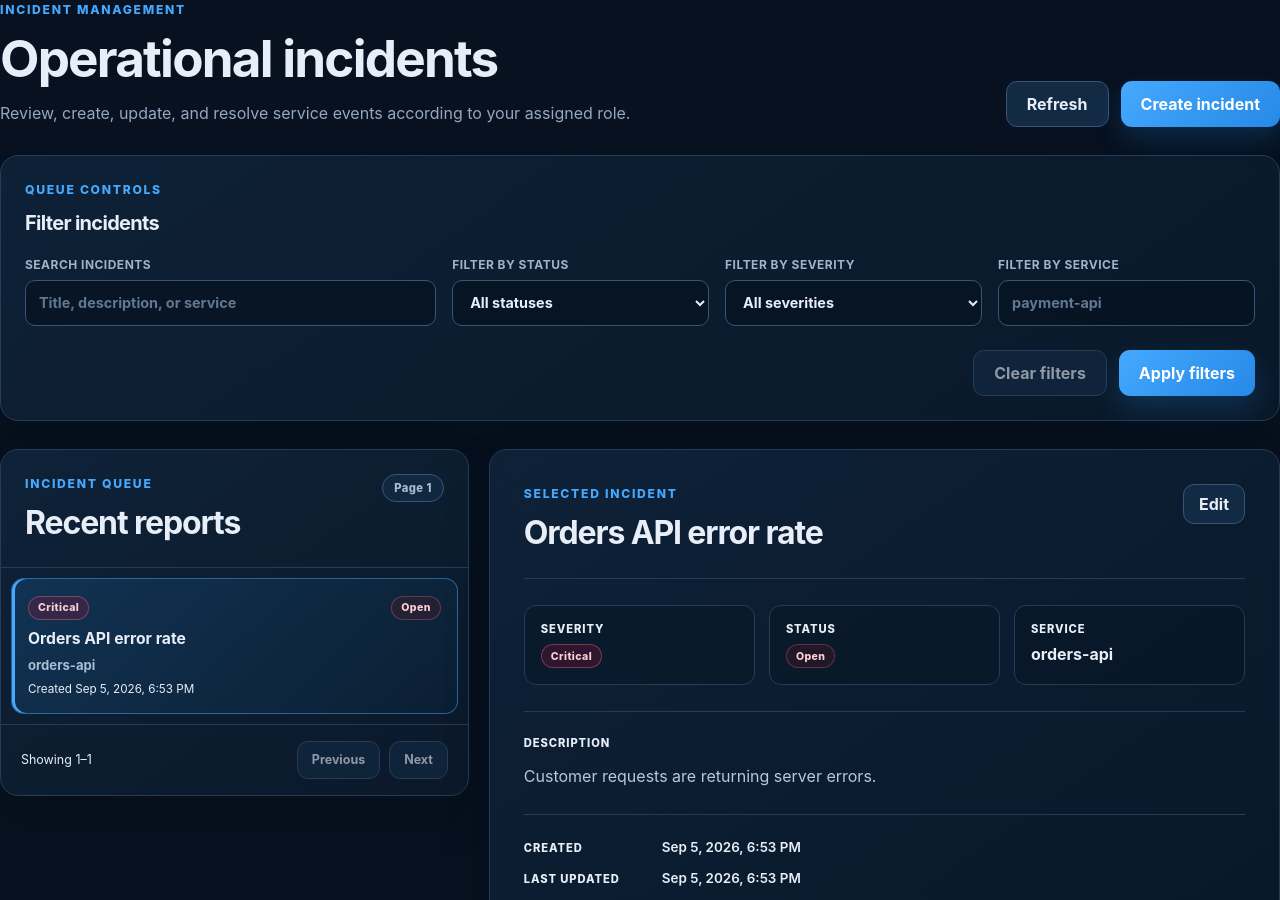
Test: IncidentsPage › allows an operator to update an Incident
The image size is (1280, 900).
Click the button "Edit" at x=1214, y=504, box [1183, 484, 1245, 524]
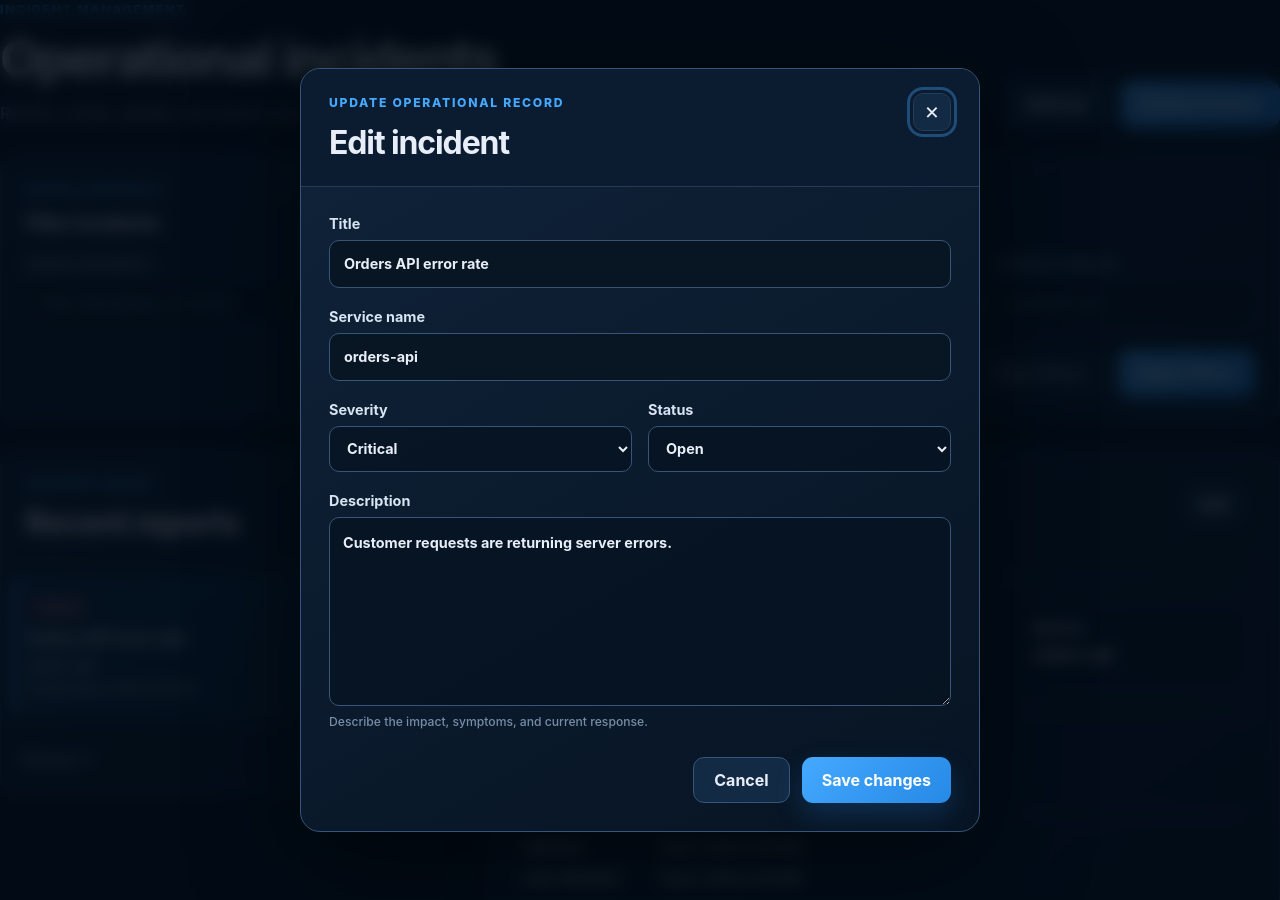
Replace the text in the text box labelled "Description" with "The operations team is investigating." at x=640, y=612, box [329, 517, 951, 706]
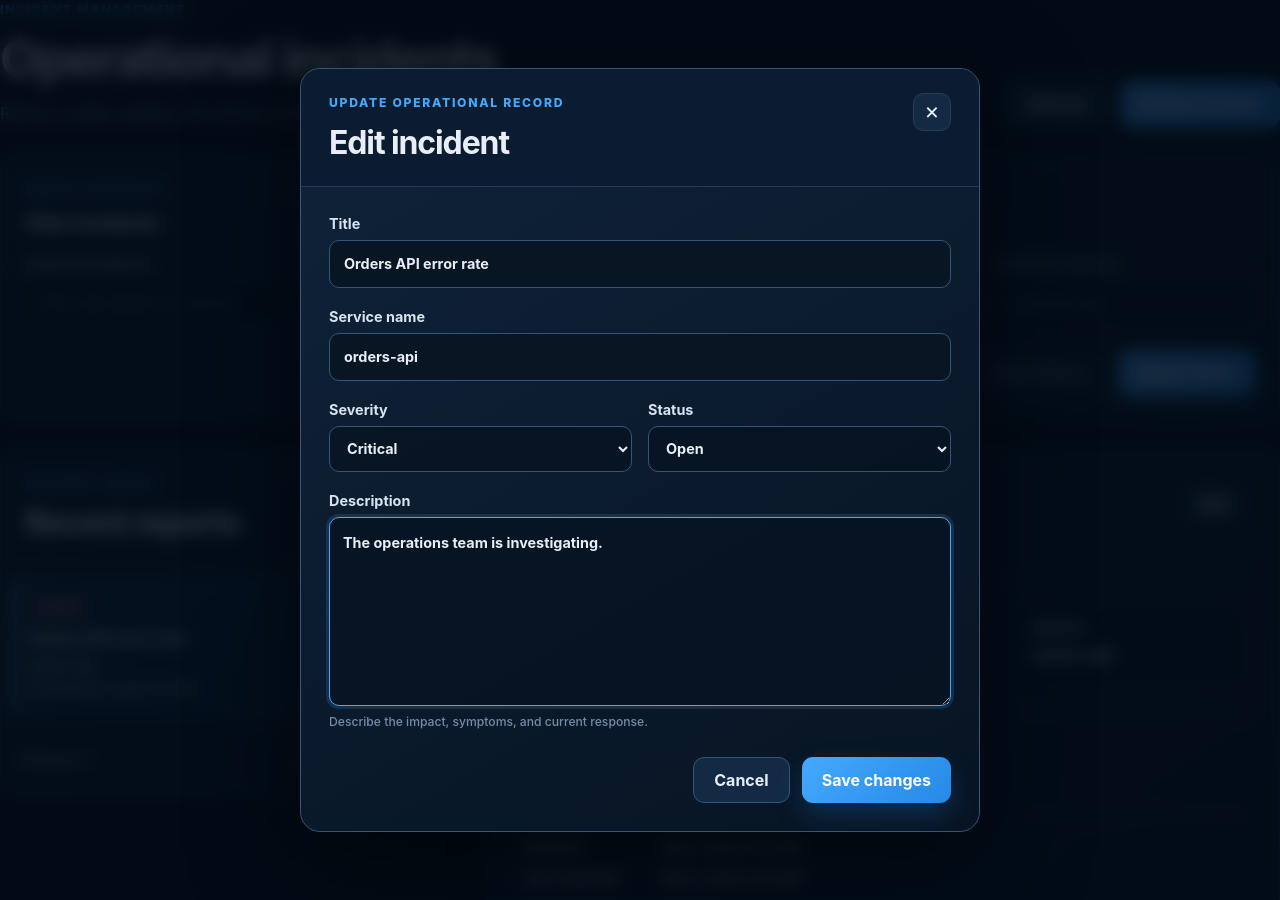
Select "High" in the dropdown labelled "Severity" at x=480, y=449, box [329, 426, 632, 472]
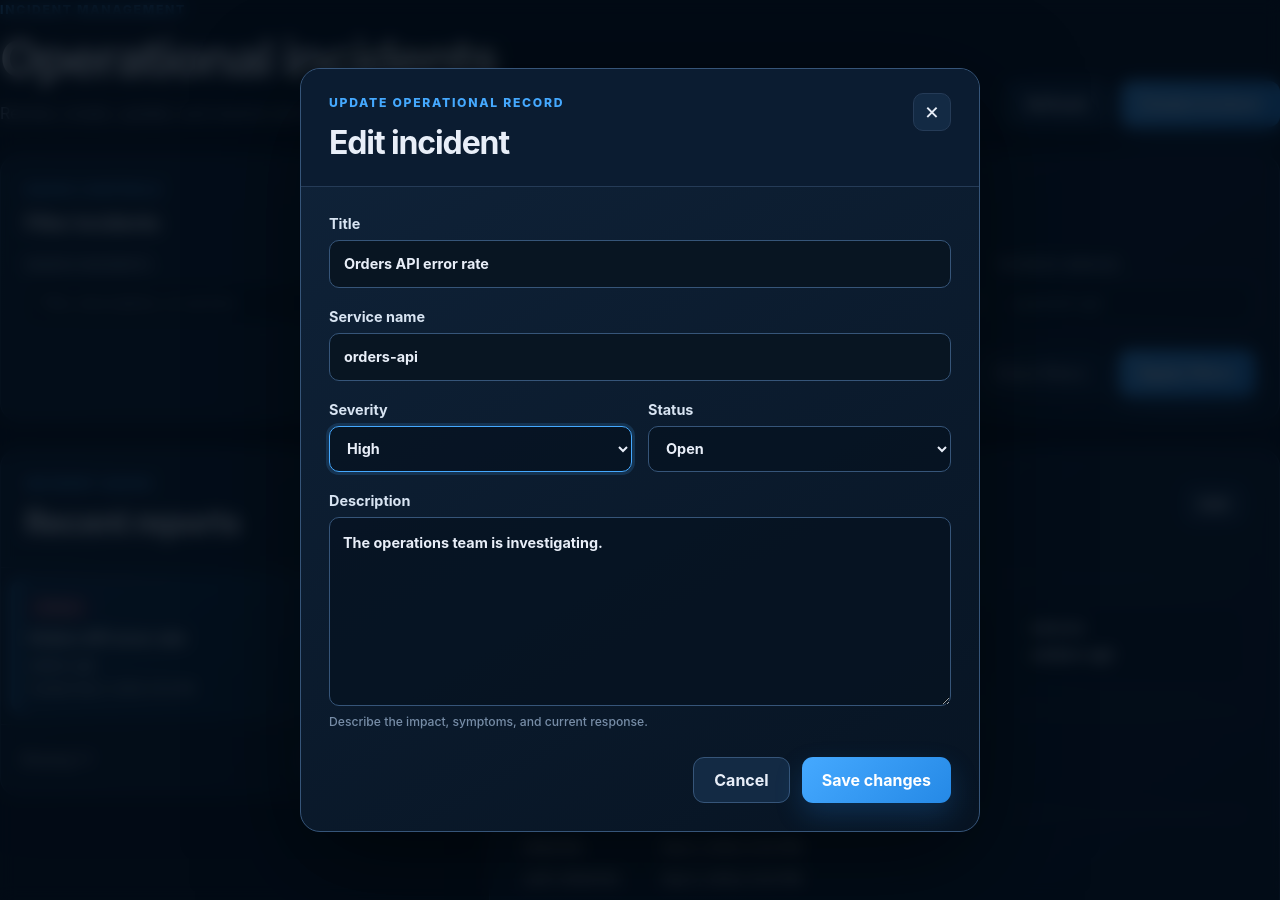
Select "Investigating" in the dropdown labelled "Status" at x=800, y=449, box [648, 426, 951, 472]
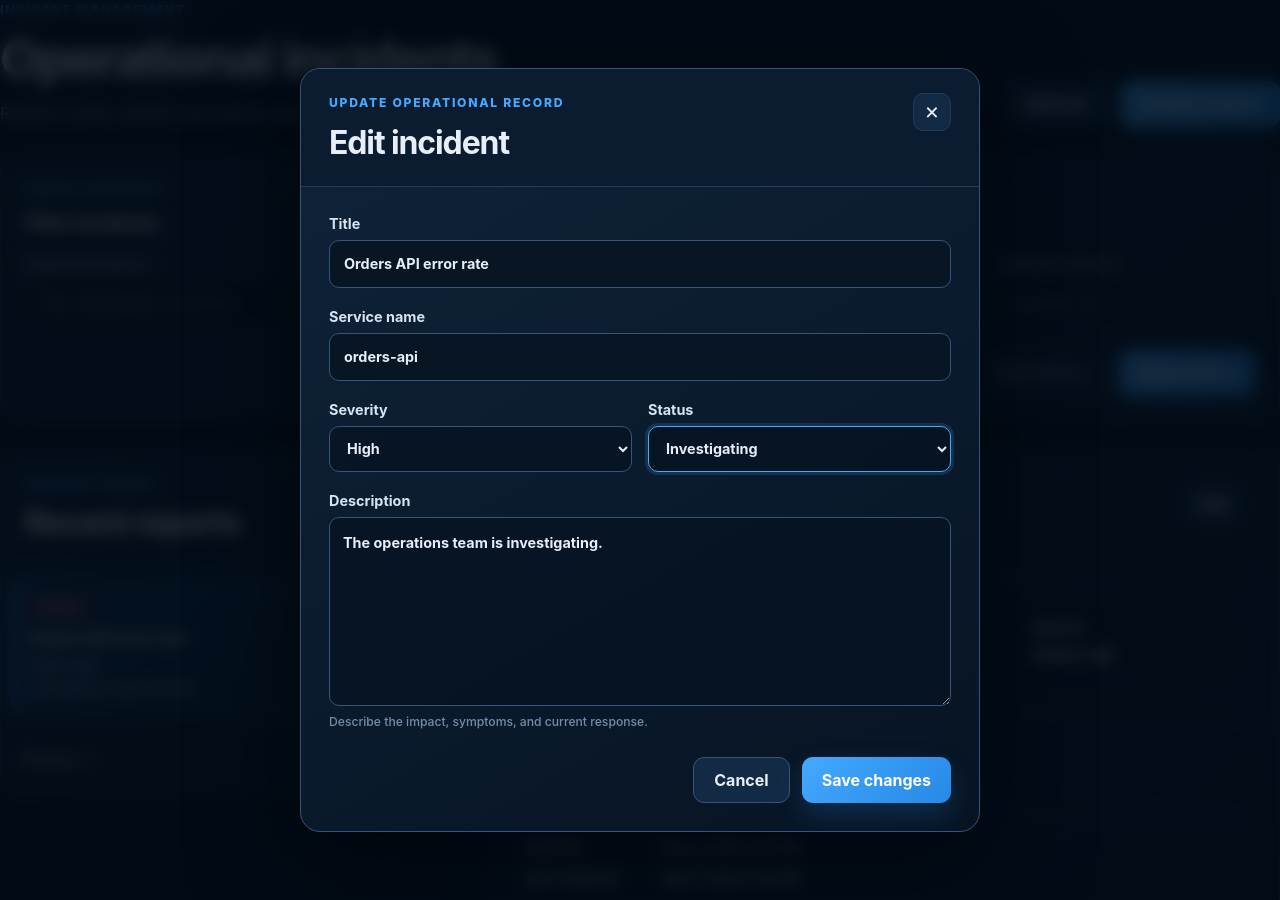
Click the button "Save changes" at x=876, y=780, box [802, 757, 951, 803]
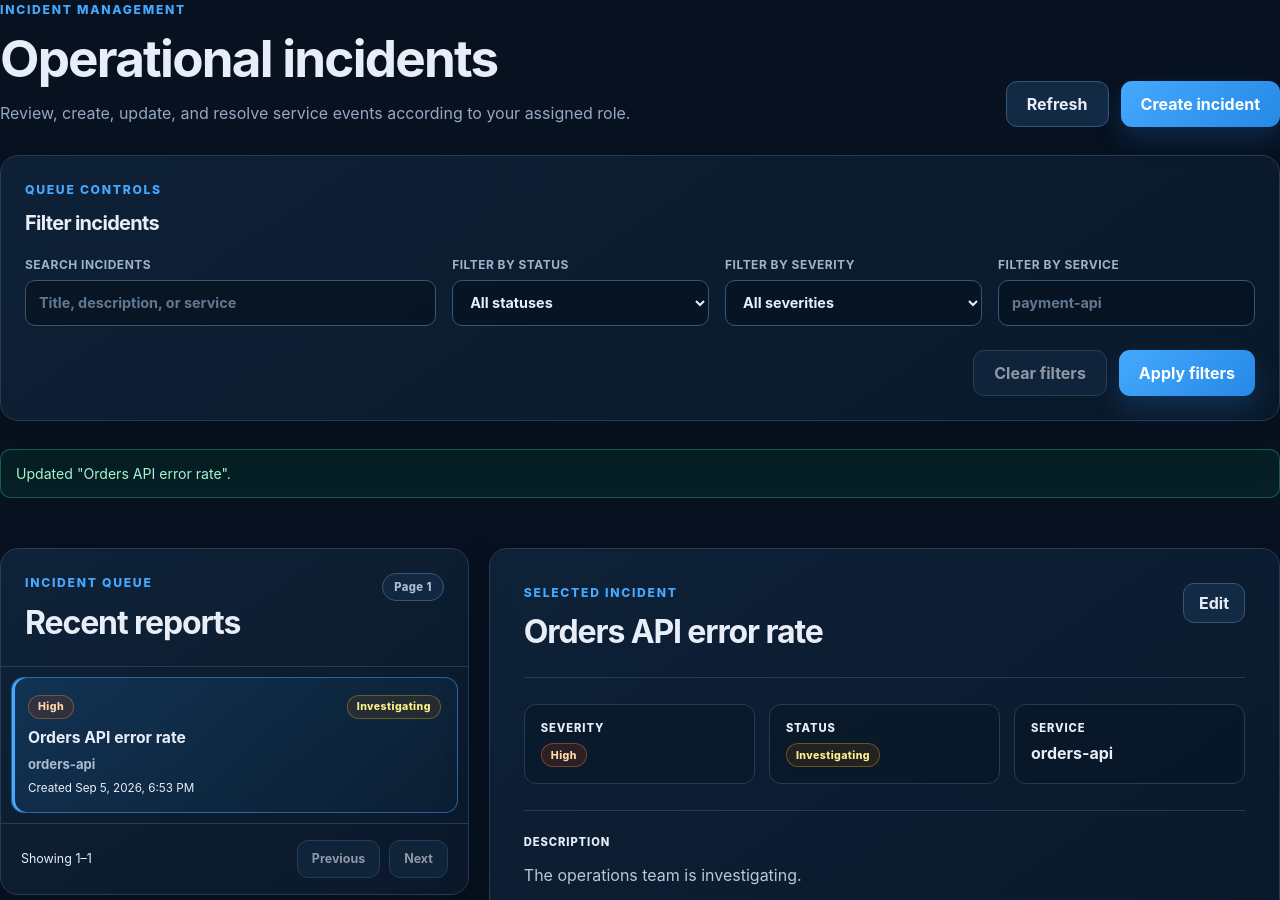
Result: the text "Updated \"Orders API error rate\"." is shown at [0, 449, 1279, 498]
Result: the text "The operations team is investigating." is shown at [524, 866, 802, 886]
